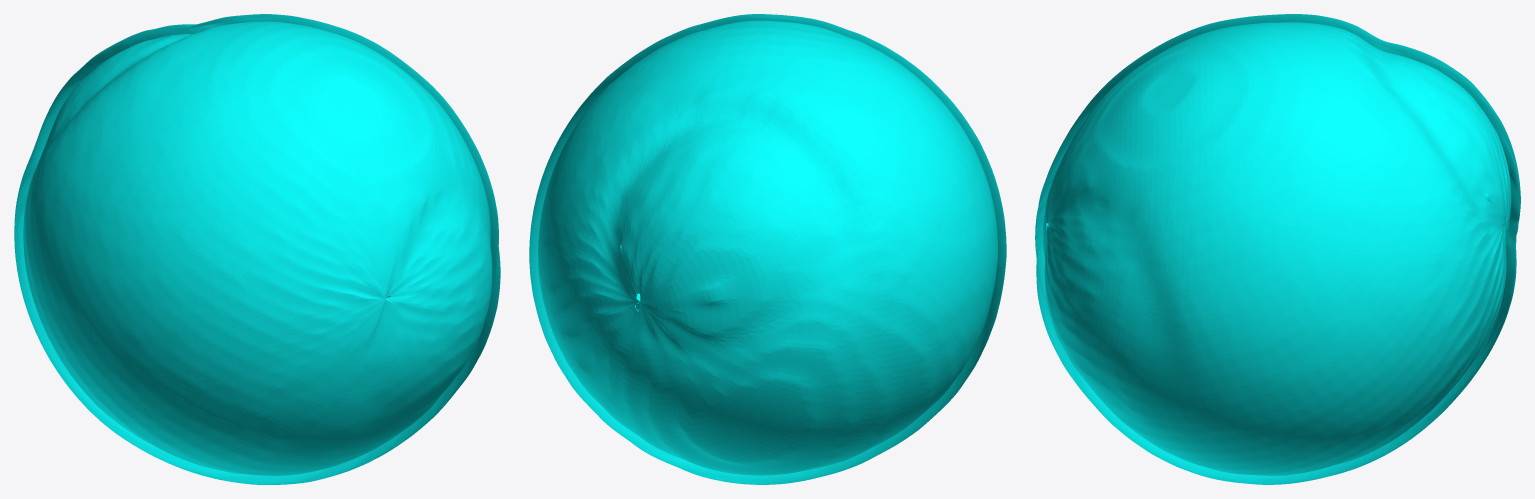
3 views of the same model, side by side, from view 1: azimuth 30°, elevation 25°; view 2: azimuth 150°, elevation 25°; view 3: azimuth 270°, elevation 25° (orthographic).
Parts seen in each view (by area): view 1: Renderer Node; view 2: Renderer Node; view 3: Renderer Node.
Boxes of the visible parts, x1,y1,x2,y2 form: Renderer Node: (14, 14, 500, 484); Renderer Node: (529, 14, 1006, 484); Renderer Node: (1035, 14, 1520, 484).
Size of the model in its own units: 3.09e+11 by 3.02e+11 by 3.14e+11.
